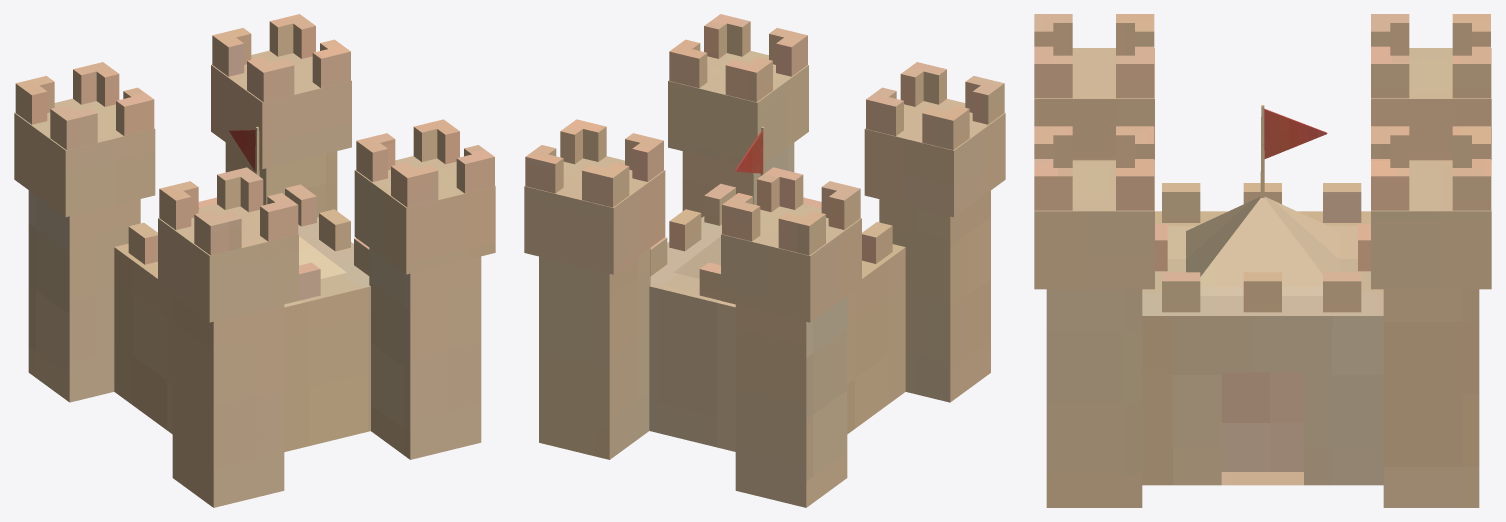
The model's file is castle.glb.
3 views of the same model, side by side, from view 1: azimuth 30°, elevation 25°; view 2: azimuth 150°, elevation 25°; view 3: azimuth 270°, elevation 25° (orthographic). The views are drawn at different scales.
Parts seen in each view (by area): view 1: Cube.014_Cube.019; view 2: Cube.014_Cube.019; view 3: Cube.014_Cube.019.
Part boxes in pixels (<box>): Cube.014_Cube.019: <box>14,14,495,507</box>; Cube.014_Cube.019: <box>524,14,1005,507</box>; Cube.014_Cube.019: <box>1034,14,1491,507</box>.
Bounding box in the file's own units: 1.65 × 1.59 × 1.96.
Materials: 1 (1 with a texture image).
